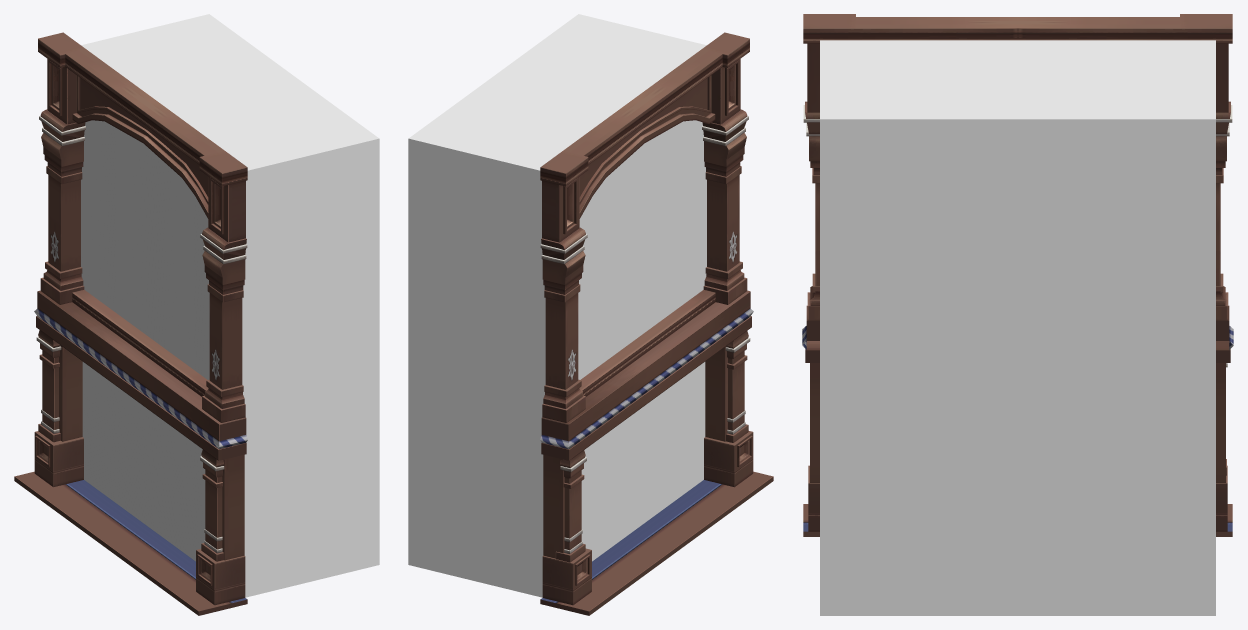
File: my_wildhunt_01_wallcc_02.glb
3 renders of one model, left to right at view 1: azimuth 30°, elevation 25°; view 2: azimuth 150°, elevation 25°; view 3: azimuth 270°, elevation 25°, orthographic. The views are drawn at different scales.
Parts seen in each view (by area): view 1: my_wildhunt_01_wallcc_02_cover, my_wildhunt_01_wallcc_02, my_wildhunt_01_wallcc_02_hole, my_wildhunt_01_wallcc_02_out; view 2: my_wildhunt_01_wallcc_02_cover, my_wildhunt_01_wallcc_02, my_wildhunt_01_wallcc_02_hole, my_wildhunt_01_wallcc_02_out; view 3: my_wildhunt_01_wallcc_02_cover, my_wildhunt_01_wallcc_02.
Part boxes in pixels (x1,y1,x2,y2): my_wildhunt_01_wallcc_02_cover: [81, 14, 379, 597]; my_wildhunt_01_wallcc_02: [14, 32, 247, 615]; my_wildhunt_01_wallcc_02_hole: [81, 120, 209, 561]; my_wildhunt_01_wallcc_02_out: [72, 289, 208, 396]; my_wildhunt_01_wallcc_02_cover: [408, 14, 706, 597]; my_wildhunt_01_wallcc_02: [540, 32, 773, 615]; my_wildhunt_01_wallcc_02_hole: [578, 120, 706, 561]; my_wildhunt_01_wallcc_02_out: [579, 289, 715, 396]; my_wildhunt_01_wallcc_02_cover: [820, 40, 1215, 615]; my_wildhunt_01_wallcc_02: [802, 14, 1233, 536].
Bounding box in the file's own units: 0.0203 × 0.0452 × 0.0347.
Materials: 5 (3 with a texture image).
